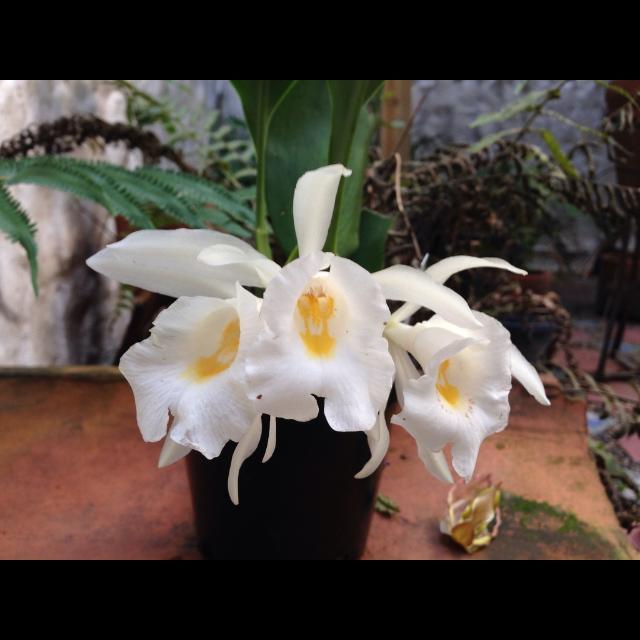Flower: (86, 163, 552, 504), (244, 252, 398, 432), (117, 280, 263, 460), (384, 309, 512, 485)
